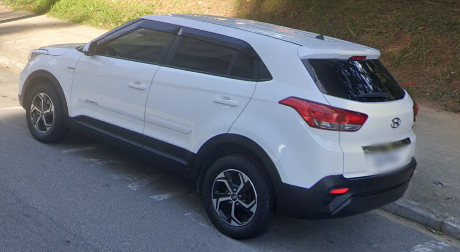car: (18, 14, 423, 240)
